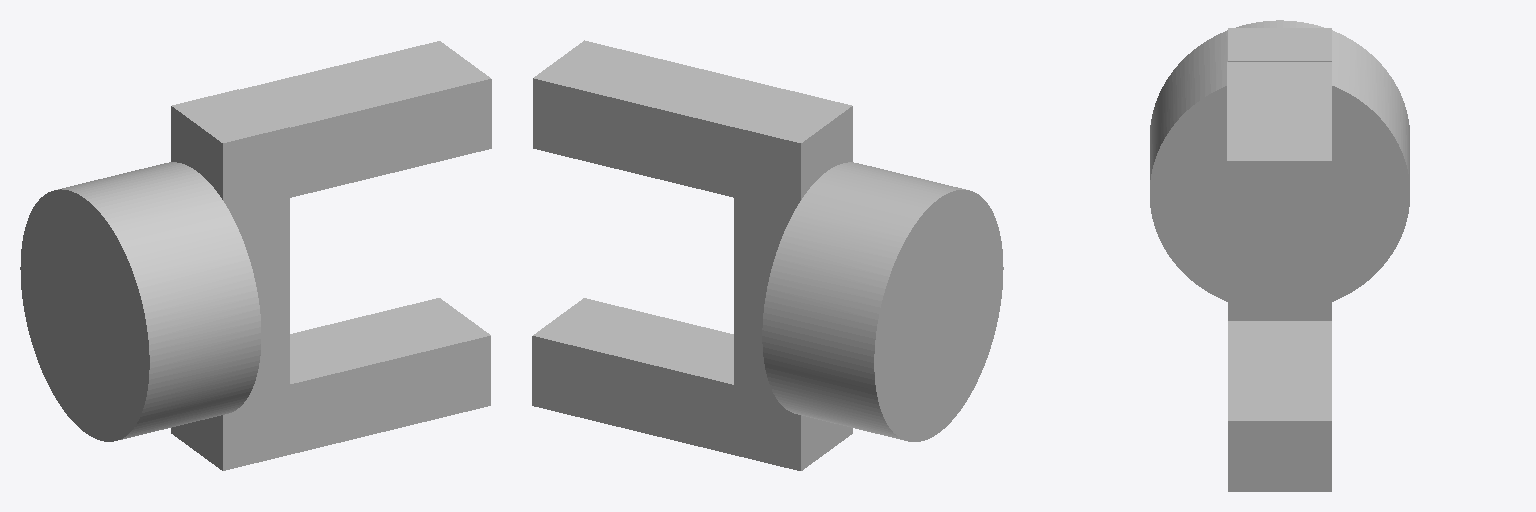
robot.urdf — Gripper:
<?xml version="1.0" ?>
<robot name="Gripper">
  <!--Generated by CROSS, a ROS Workbench for FreeCAD (https://github.com/galou/freecad.cross)-->
  <link name="Link">
    <visual>
      <!--Gripper_base-->
      <origin rpy="0.0 -0.0 0.0" xyz="0.0 0.0 0.0"/>
      <geometry>
        <mesh filename="package://gripper/meshes/gripper_Gripper_base.dae"/>
      </geometry>
    </visual>
    <collision>
      <!--Gripper_base-->
      <origin rpy="0.0 -0.0 0.0" xyz="0.0 0.0 0.0"/>
      <geometry>
        <mesh filename="package://gripper/meshes/gripper_Gripper_base.dae"/>
      </geometry>
    </collision>
    <inertial>
      <mass value="0.0"/>
      <origin rpy="0.0 -0.0 0.0" xyz="0.0 0.0 0.0"/>
      <inertia ixx="0.0" ixy="0.0" ixz="0.0" iyy="0.0" iyz="0.0" izz="0.0"/>
    </inertial>
  </link>
  <link name="Link001">
    <visual>
      <!--Finger-->
      <origin rpy="0.0 -0.0 0.0" xyz="0.0 0.0 0.0"/>
      <geometry>
        <mesh filename="package://gripper/meshes/gripper_Finger.dae"/>
      </geometry>
    </visual>
    <collision>
      <!--Finger-->
      <origin rpy="0.0 -0.0 0.0" xyz="0.0 0.0 0.0"/>
      <geometry>
        <mesh filename="package://gripper/meshes/gripper_Finger.dae"/>
      </geometry>
    </collision>
    <inertial>
      <mass value="0.0"/>
      <origin rpy="0.0 -0.0 0.0" xyz="0.0 0.0 0.0"/>
      <inertia ixx="0.0" ixy="0.0" ixz="0.0" iyy="0.0" iyz="0.0" izz="0.0"/>
    </inertial>
  </link>
  <joint name="Joint" type="prismatic">
    <parent link="Link"/>
    <child link="Link001"/>
    <origin rpy="0.0 -0.0 0.0" xyz="0.08 0.0 0.056"/>
    <axis xyz="0 0 1"/>
    <limit effort="1000.0" lower="-0.078" upper="0.0" velocity="0.0"/>
  </joint>
</robot>

--- Render facts (derived) ---
3 views of the same robot in one strip: view 1: azimuth 30°, elevation 25°; view 2: azimuth 150°, elevation 25°; view 3: azimuth 270°, elevation 25° (orthographic).
Robot: Gripper — 2 links, 1 joints (1 prismatic); root link Link; default pose: every joint at zero.
Links seen in each view (by area): view 1: Link, Link001; view 2: Link, Link001; view 3: Link, Link001.
Boxes of the visible links, x1,y1,x2,y2 form: Link: (20,89,490,470); Link001: (240,41,491,197); Link: (532,89,1003,470); Link001: (533,40,784,197); Link: (1150,20,1409,491); Link001: (1227,62,1331,231).
Size in the robot's own frame: 0.17 by 0.1 by 0.14 metres.
2 mesh visuals loaded from 2 distinct referenced files (2 Collada DAE).